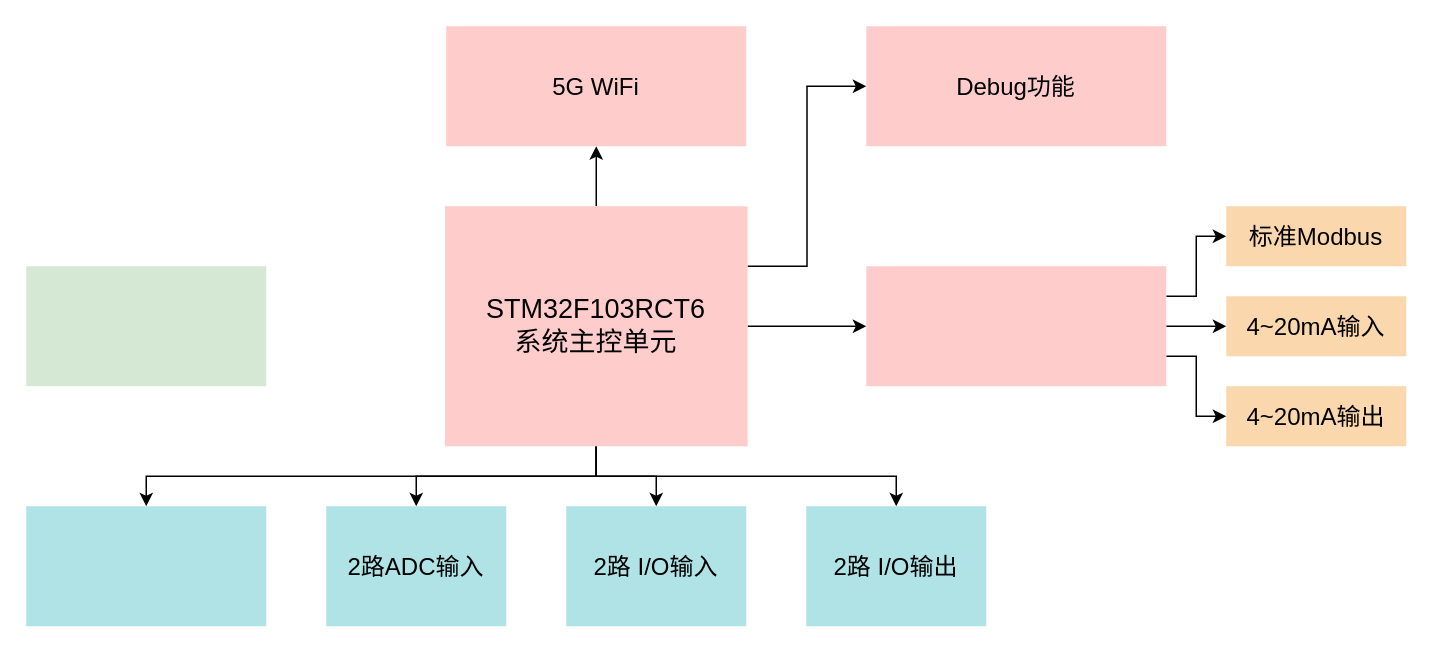
The diagram is 1431 pixels wide and 651 high, and some of its shapes have lost their labels. Here are the shapes that lost their labels. From the top down, the centre of each, then its label:
(146,326): 供电方案： AC220V + 明纬电源模块12V 1.8A
(1016,326): 2路485接口
(146,566): 2+2大功率继电器 +交流接触器
